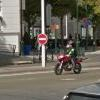Motorcycle: (51, 46, 96, 81)
